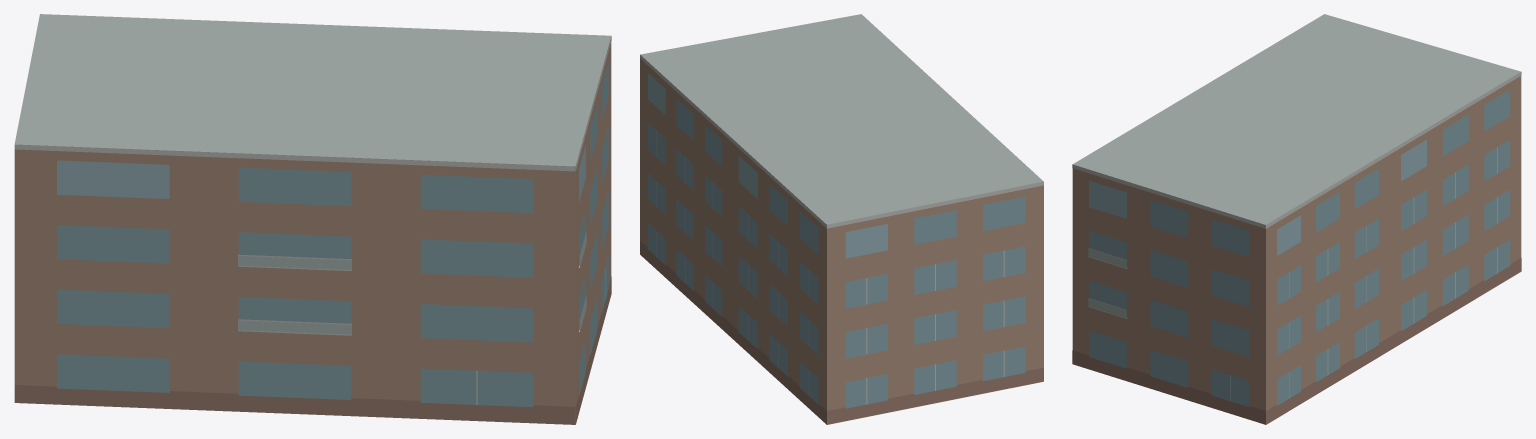
The model's file is survey-upis-32663717.glb.
3 views of the same model, side by side, from view 1: azimuth 30°, elevation 25°; view 2: azimuth 150°, elevation 25°; view 3: azimuth 270°, elevation 25° (orthographic). The views are drawn at different scales.
Parts seen in each view (by area): view 1: survey-upis-32663717.tmp; view 2: survey-upis-32663717.tmp; view 3: survey-upis-32663717.tmp.
Boxes of the visible parts, <box> form: survey-upis-32663717.tmp: <box>14,14,611,424</box>; survey-upis-32663717.tmp: <box>640,14,1043,424</box>; survey-upis-32663717.tmp: <box>1072,14,1521,424</box>.
Size of the model in its own units: 29 by 12.8 by 26.06.
